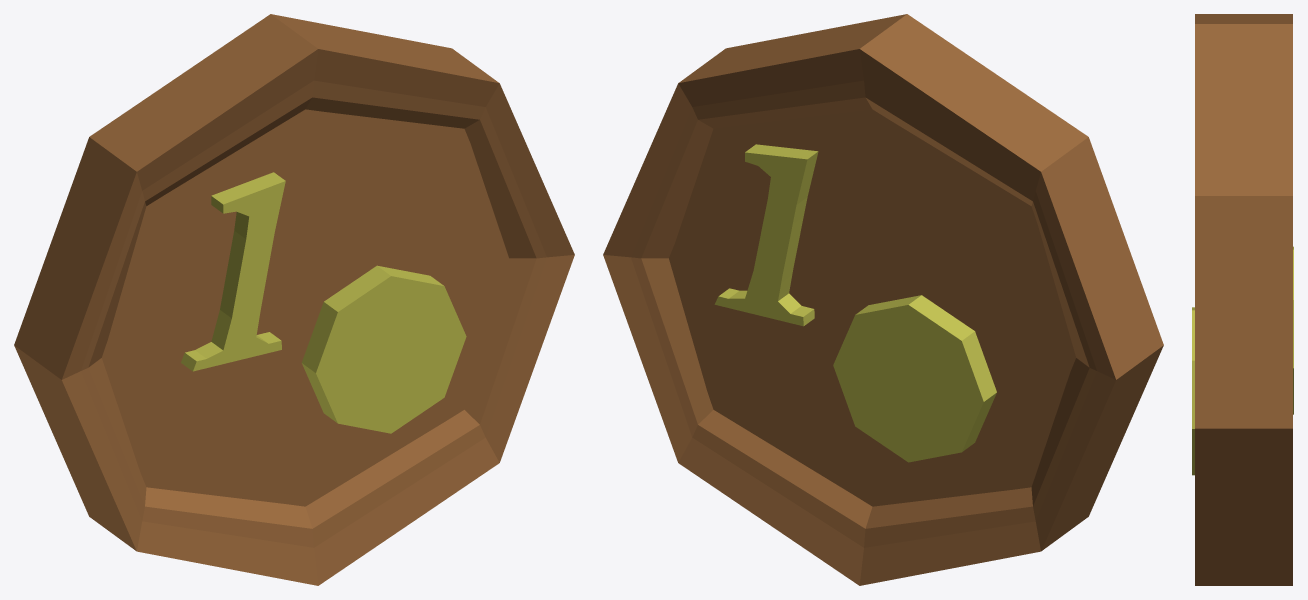
The model's file is 1Cent.fbx.
3 renders of one model, left to right at view 1: azimuth 30°, elevation 25°; view 2: azimuth 150°, elevation 25°; view 3: azimuth 270°, elevation 25°, orthographic. The views are drawn at different scales.
Visible parts, largest first — view 1: pCylinder1, pCylinder3; view 2: pCylinder1, pCylinder4; view 3: pCylinder1, pCylinder3, pCylinder4.
Boxes of the visible parts, left/top/right/bottom form: pCylinder1: left=14, top=14, right=574, bottom=585; pCylinder3: left=181, top=172, right=466, bottom=433; pCylinder1: left=603, top=14, right=1163, bottom=585; pCylinder4: left=714, top=144, right=996, bottom=462; pCylinder1: left=1195, top=14, right=1292, bottom=585; pCylinder3: left=1192, top=307, right=1194, bottom=475; pCylinder4: left=1293, top=246, right=1293, bottom=414.
Bounding box in the file's own units: 4 × 4 × 0.6681.
